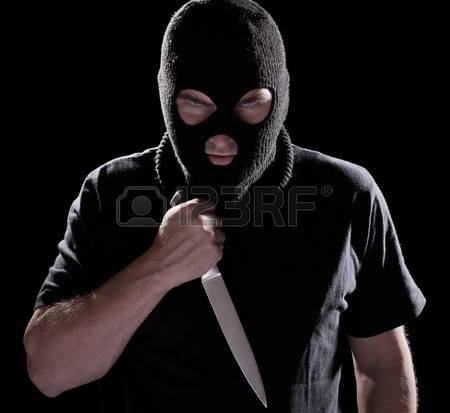knife: (165, 208, 275, 413)
